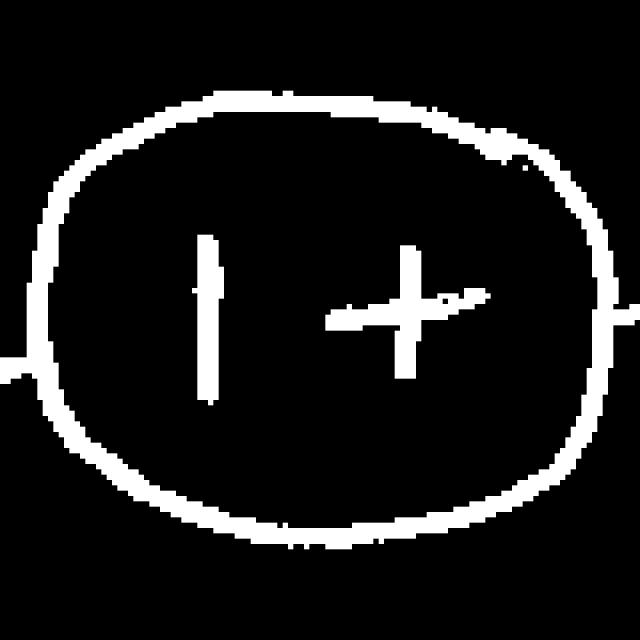voltage_source: (18, 69, 623, 560)
